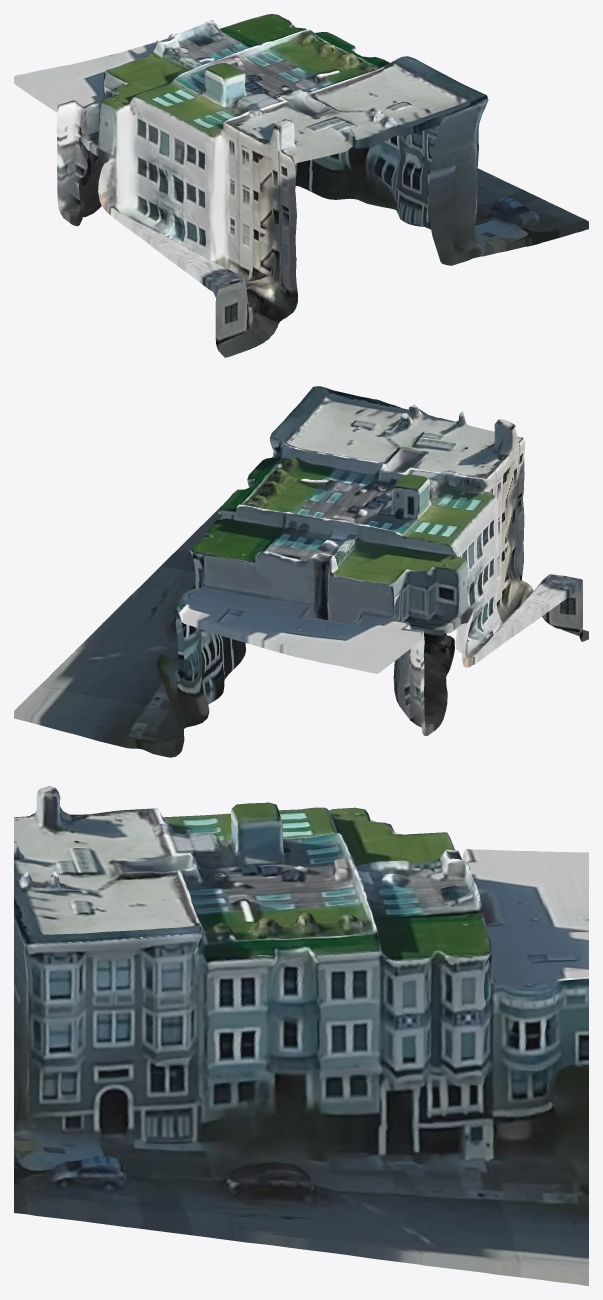
The model's file is z20-167747-405195-h0-yup-uvflip-v3-world.glb.
3 renders of one model, top to bottom at view 1: azimuth 30°, elevation 25°; view 2: azimuth 150°, elevation 25°; view 3: azimuth 270°, elevation 25°, orthographic. The views are drawn at different scales.
Size of the model in its own units: 30.16 by 17.84 by 30.32.
Materials: 1 (1 with a texture image).
